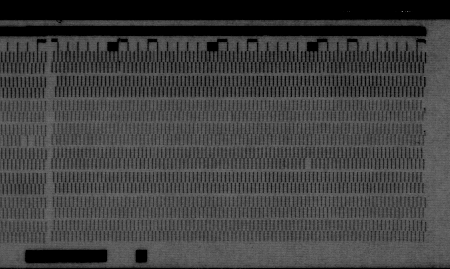Broken hole: (17, 135, 39, 148), (303, 158, 315, 170)
Oblique printing: (115, 63, 127, 76), (226, 111, 239, 123)
